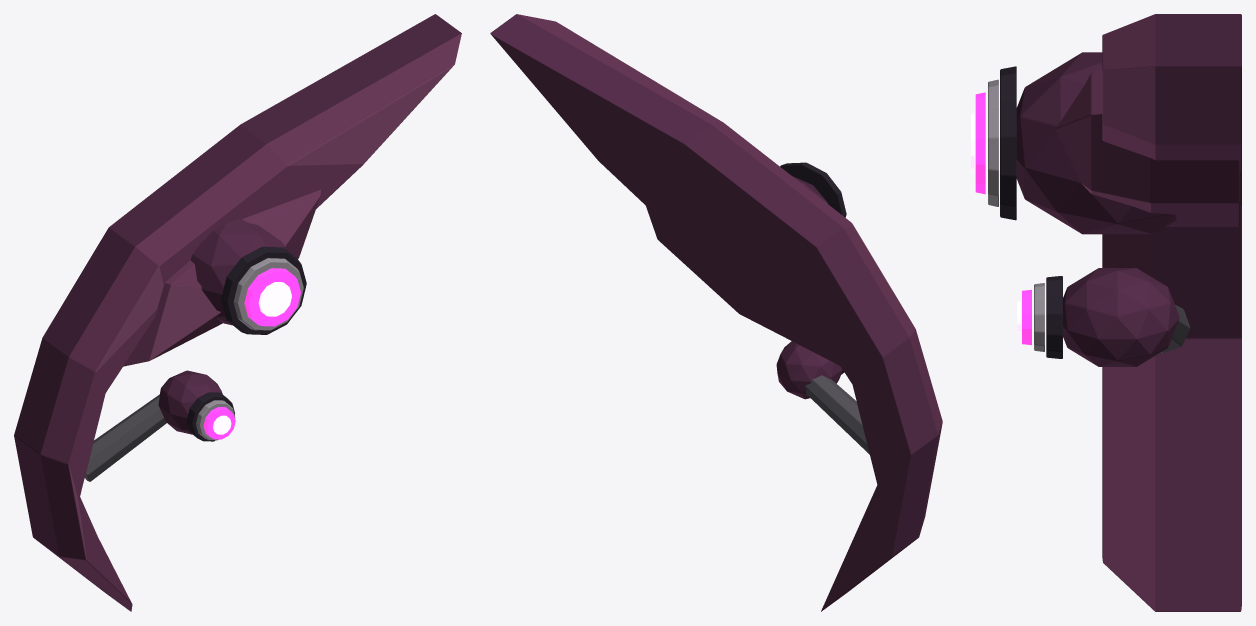
The model's file is Frigate.fbx.
The picture shows the model from 3 angles, left to right: view 1: azimuth 30°, elevation 25°; view 2: azimuth 150°, elevation 25°; view 3: azimuth 270°, elevation 25°; orthographic projection. The views are drawn at different scales.
Parts seen in each view (by area): view 1: Armor 1, Armor 2, Armor 3, Armor 4; view 2: Armor 1, Armor 3, Armor 2; view 3: Armor 1, Armor 3, Armor 2, Armor 4.
Boxes of the visible parts, left/top/right/bottom form: Armor 1: left=14, top=14, right=461, bottom=611; Armor 2: left=221, top=246, right=306, bottom=334; Armor 3: left=84, top=370, right=222, bottom=481; Armor 4: left=186, top=392, right=235, bottom=441; Armor 1: left=490, top=14, right=942, bottom=611; Armor 3: left=776, top=341, right=869, bottom=454; Armor 2: left=780, top=162, right=846, bottom=217; Armor 1: left=1016, top=14, right=1241, bottom=611; Armor 3: left=1063, top=268, right=1190, bottom=366; Armor 2: left=971, top=66, right=1016, bottom=220; Armor 4: left=1017, top=276, right=1062, bottom=358.
Size of the model in its own units: 0.1504 by 0.1698 by 0.0516.
